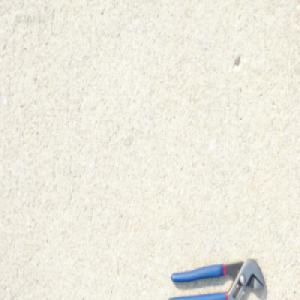Pliers: (165, 255, 265, 300)
